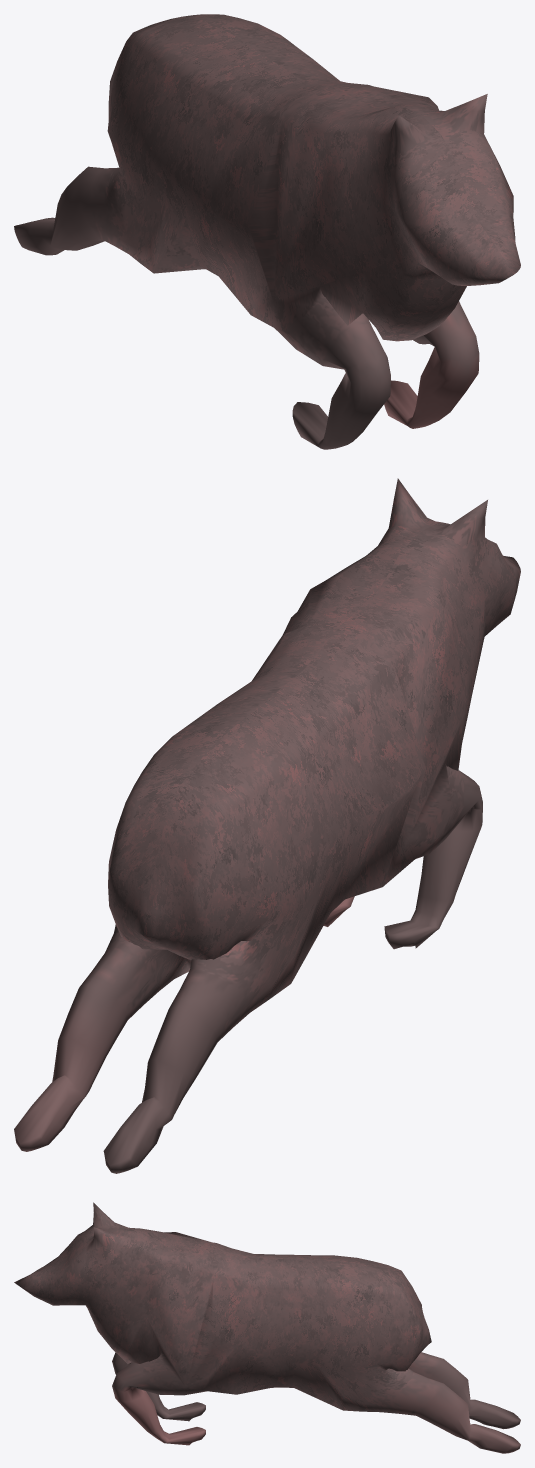
Rendered from piesblend_000022.obj.
The picture shows the model from 3 angles, top to bottom: view 1: azimuth 30°, elevation 25°; view 2: azimuth 150°, elevation 25°; view 3: azimuth 270°, elevation 25°; orthographic projection. The views are drawn at different scales.
Visible parts, largest first — view 1: Cube; view 2: Cube; view 3: Cube.
Part boxes in pixels (bbox=[...]): Cube: bbox=[14, 14, 520, 449]; Cube: bbox=[14, 478, 520, 1173]; Cube: bbox=[14, 1202, 520, 1453].
Size of the model in its own units: 2.55 by 5.39 by 10.89.
1 material, 1 textured.
